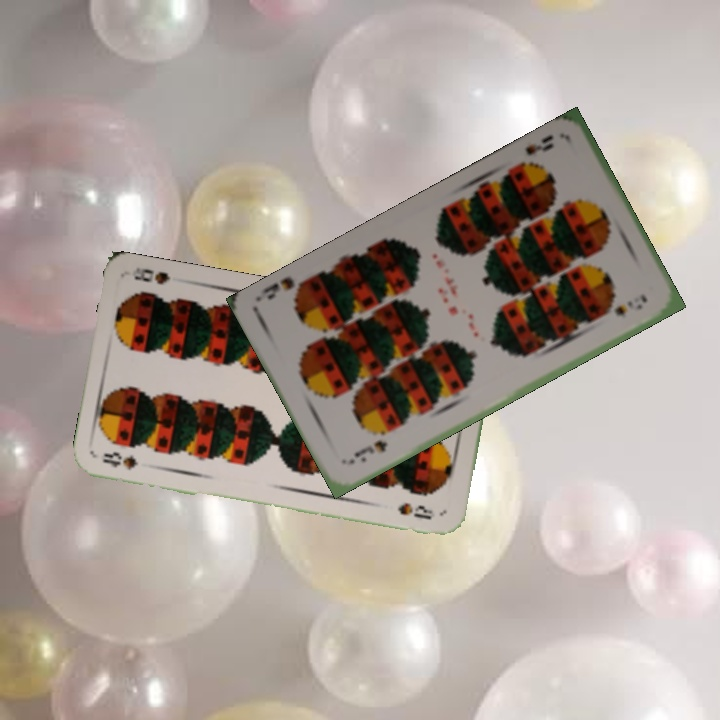S8: (98, 448, 141, 473)
S9: (512, 131, 556, 173), (344, 436, 390, 468)
